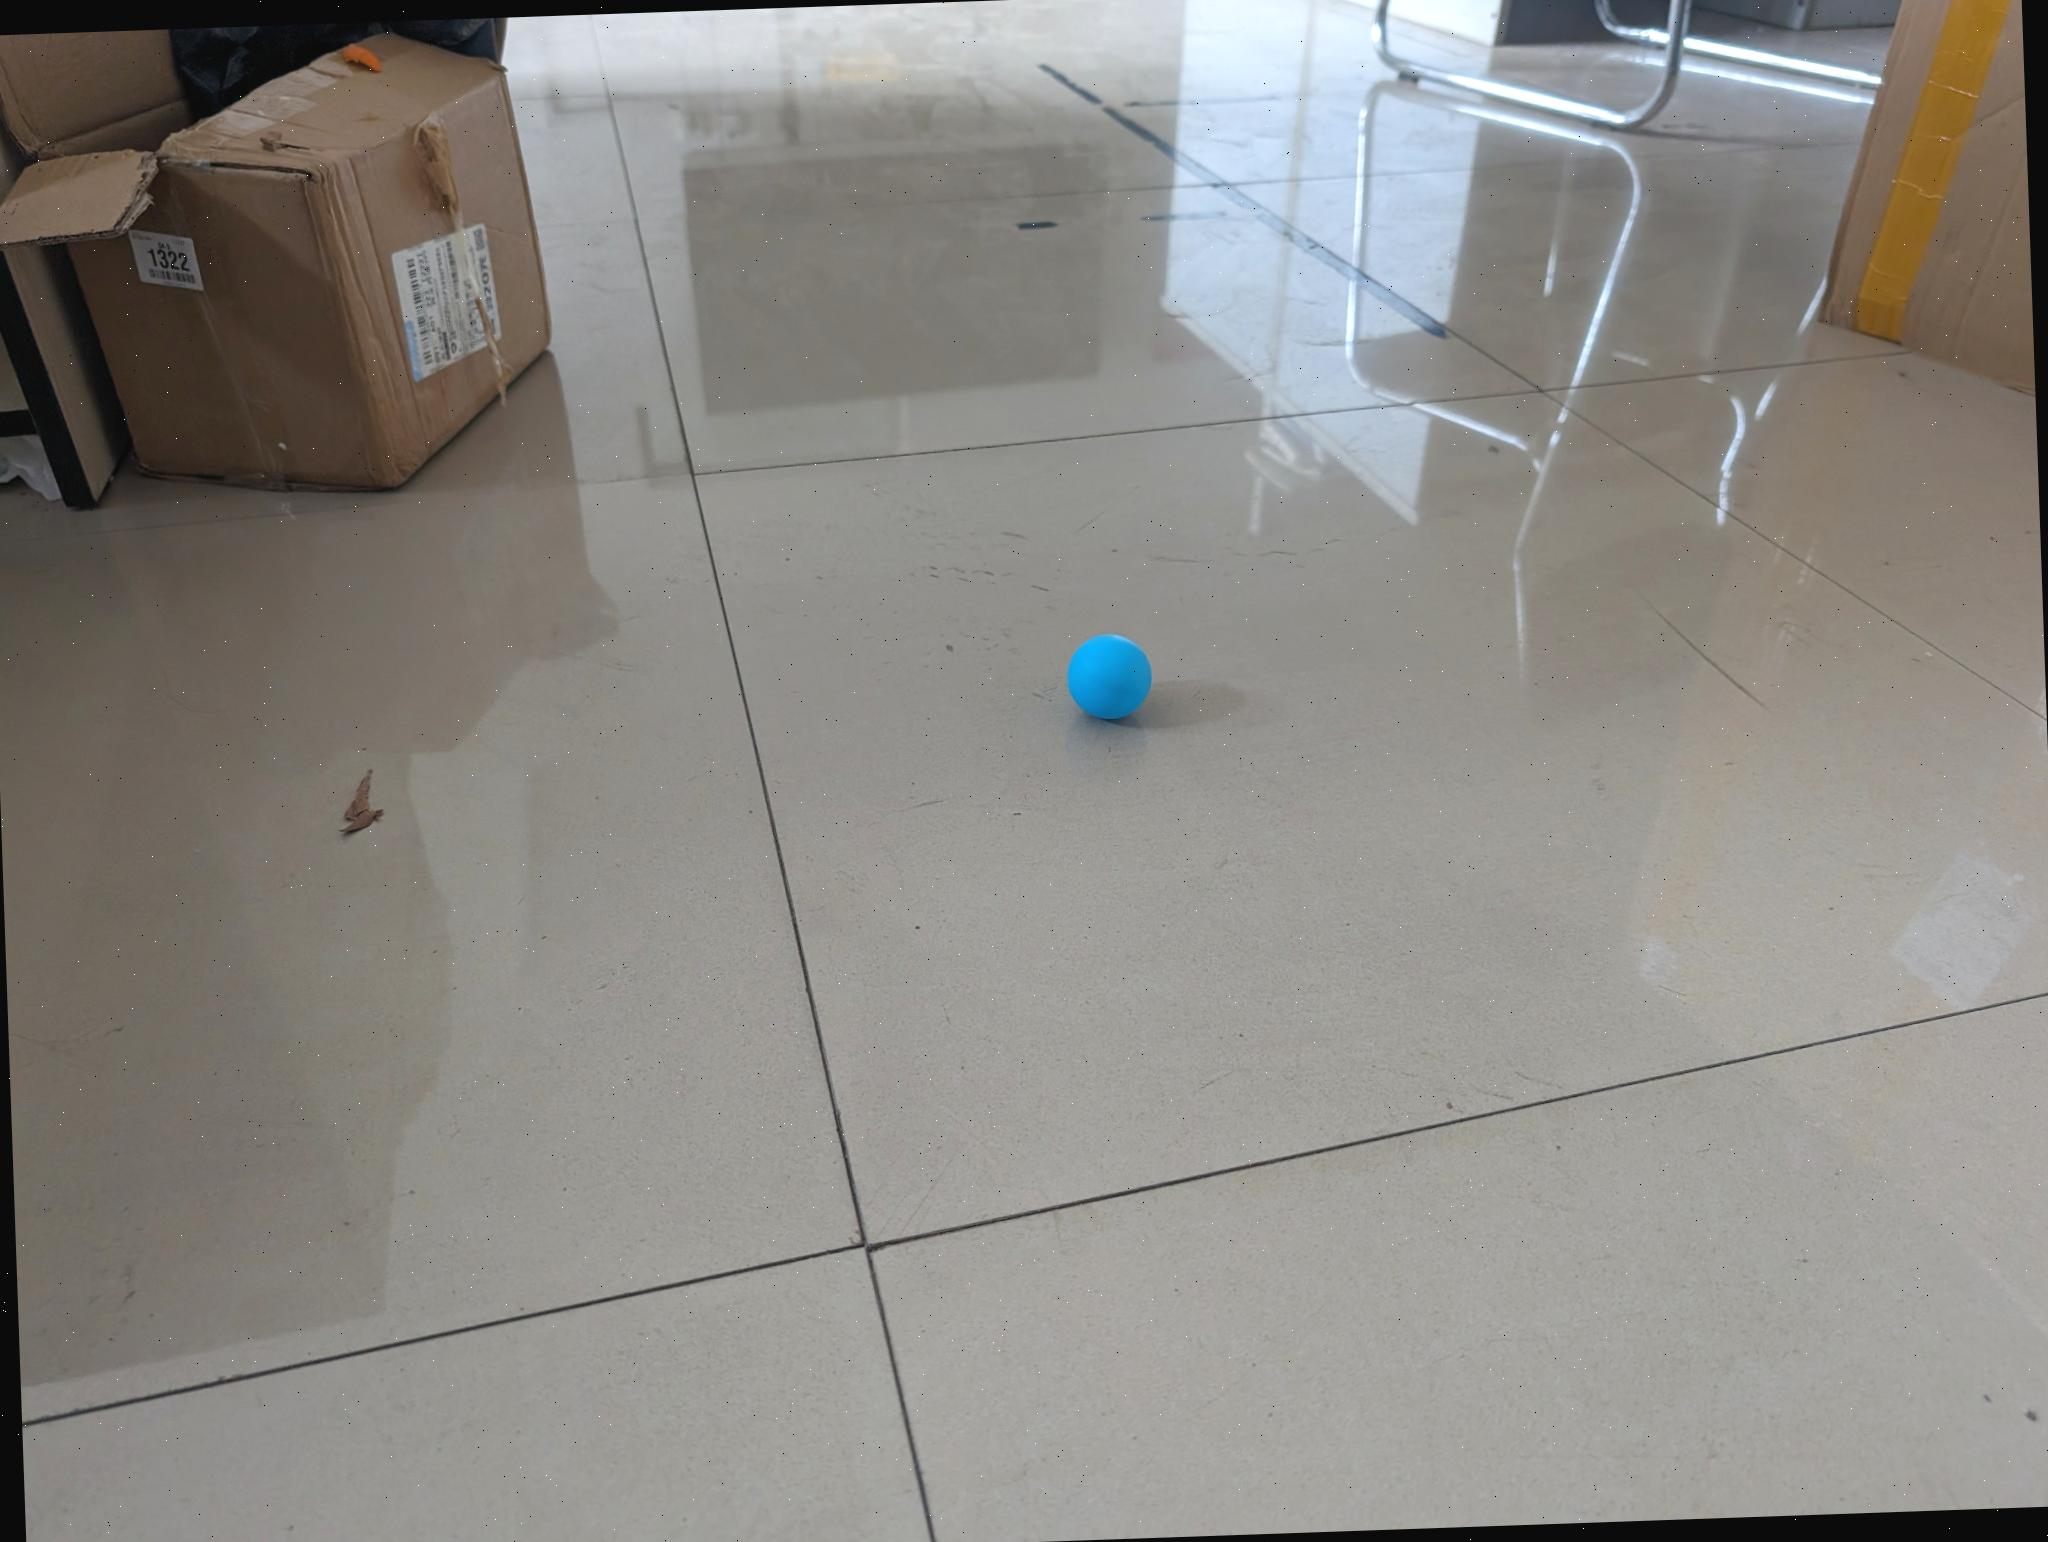ball: (1066, 630, 1154, 730)
